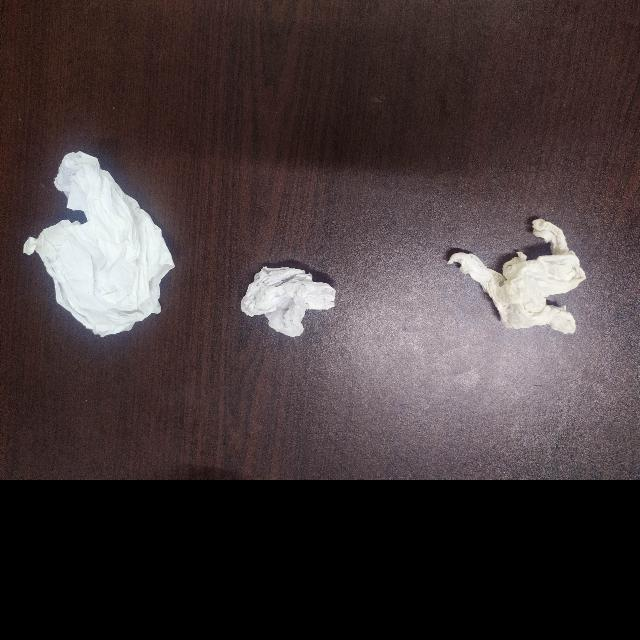kitchen paper: (36, 146, 168, 344), (438, 218, 591, 344), (245, 258, 340, 340)
